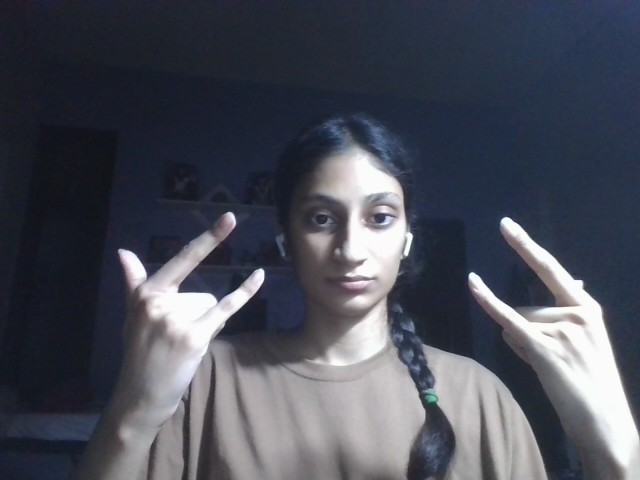i love you: (461, 215, 640, 453), (116, 208, 267, 424)
